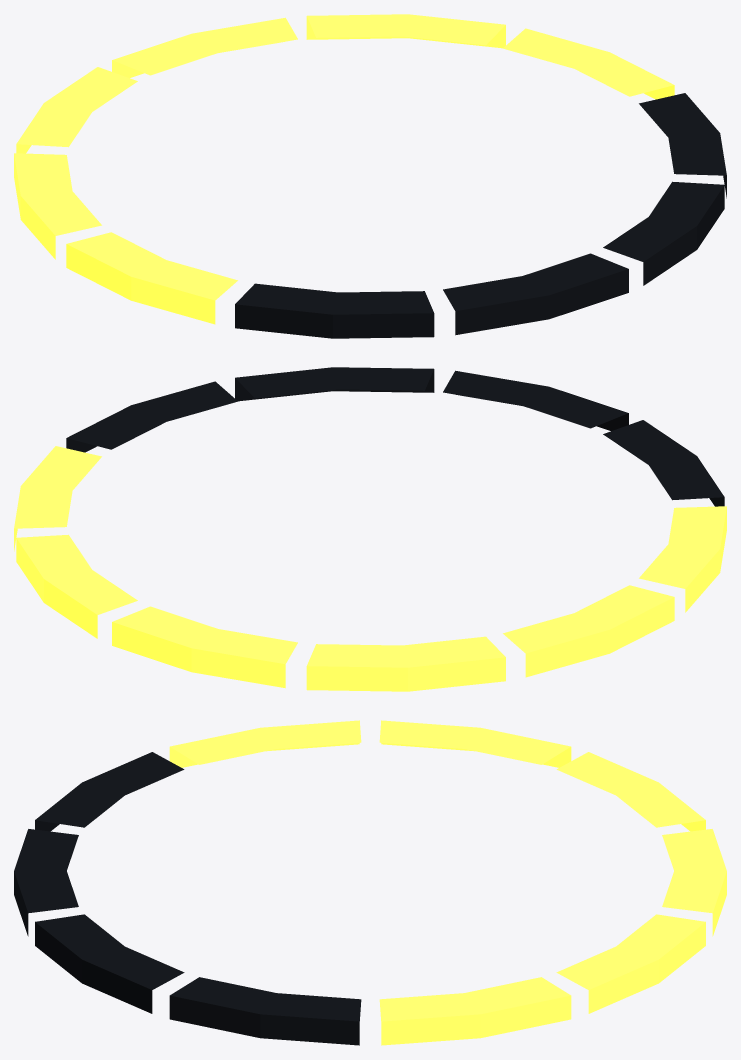
File: hpr_6.glb
3 renders of one model, top to bottom at view 1: azimuth 30°, elevation 25°; view 2: azimuth 150°, elevation 25°; view 3: azimuth 270°, elevation 25°, orthographic.
Parts seen in each view (by area): view 1: hpr_6; view 2: hpr_6; view 3: hpr_6.
Part boxes in pixels (left/top/right/bottom): hpr_6: left=14, top=14, right=726, bottom=338; hpr_6: left=14, top=367, right=726, bottom=691; hpr_6: left=14, top=720, right=726, bottom=1045.
Bounding box in the file's own units: 2.16 × 0.08 × 2.16.
